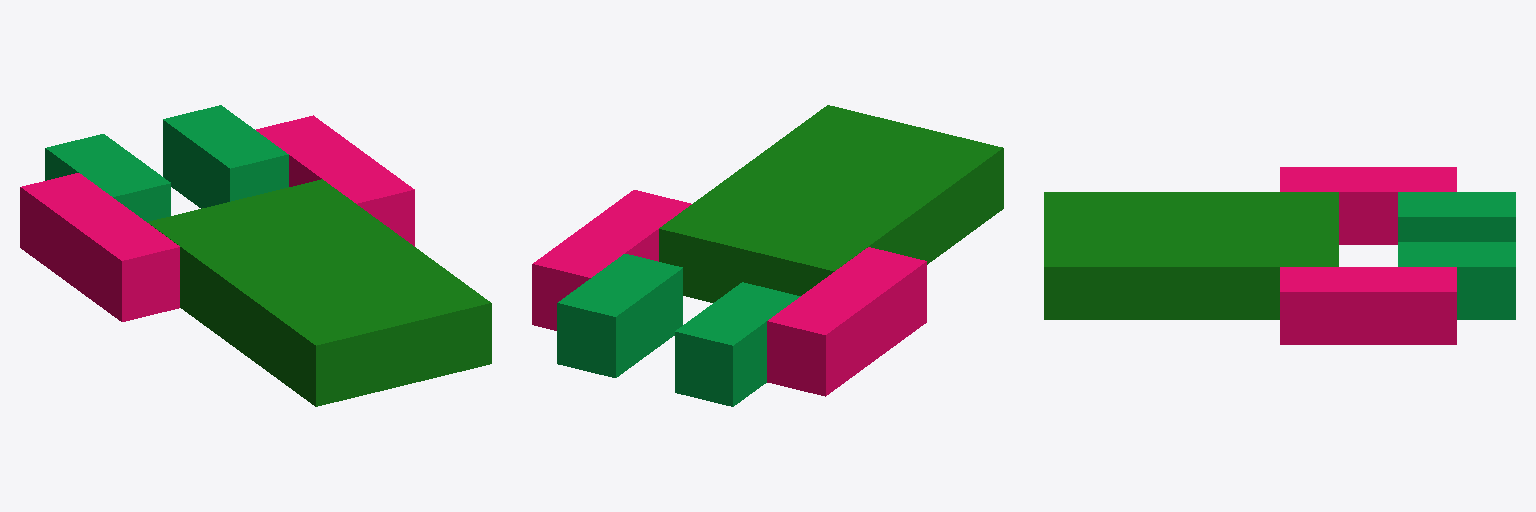
URDF robot description (robot):
<robot name="robot">
  <link name="base_footprint"></link>
  <joint name="base_joint" type="fixed">
    <parent link="base_footprint" />
    <child link="base_link" />
    <origin xyz="0 -1.5 0.5" rpy="0 0 0" />
  </joint>
  <link name="base_link">
    <visual>
      <origin xyz="0 0 0" rpy="0 0 0" />
      <geometry>
        <box size="3 5 1" />
      </geometry>
      <material name="base_link-material">
        <color rgba="0.13286832154414627 0.5583403896257968 0.13013647668074665 1" />
      </material>
    </visual>
    <collision>
      <origin xyz="0 0 0" rpy="0 0 0" />
      <geometry>
        <box size="1 1 1" />
      </geometry>
    </collision>
    <inertial>
      <origin xyz="0 0 0" rpy="0 0 0" />
      <mass value="1" />
      <inertia ixx="0.16666666666666666" ixy="0" ixz="0" iyy="0.16666666666666666" iyz="0" izz="0.16666666666666666" />
    </inertial>
  </link>
  <joint name="base_link_to_cube3" type="continuous">
    <parent link="base_link" />
    <child link="cube3" />
    <origin xyz="2 2 0" rpy="0 0 0" />
    <axis xyz="0.9999773827714318 0 -0.006725618603338868"/>
  </joint>
  <link name="cube3">
    <visual>
      <origin xyz="0 1 0" rpy="0 0 0" />
      <geometry>
        <box size="1 3 1" />
      </geometry>
      <material name="cube3-material">
        <color rgba="0.9911020971136257 0.08228270712149792 0.4910208498384856 1" />
      </material>
    </visual>
    <collision>
      <origin xyz="0 1 0" rpy="0 0 0" />
      <geometry>
        <box size="1 1 1" />
      </geometry>
    </collision>
    <inertial>
      <origin xyz="0 1 0" rpy="0 0 0" />
      <mass value="1" />
      <inertia ixx="0.16666666666666666" ixy="0" ixz="0" iyy="0.16666666666666666" iyz="0" izz="0.16666666666666666" />
    </inertial>
  </link>
  <joint name="cube3_to_cube5" type="continuous">
    <parent link="cube3" />
    <child link="cube5" />
    <origin xyz="-1 2 0" rpy="0 0 0" />
    <axis xyz="0.9999519806835316 0.009007583554104082 -0.003860021450447726"/>
  </joint>
  <link name="cube5">
    <visual>
      <origin xyz="0 0.5 0" rpy="0 0 0" />
      <geometry>
        <box size="1 2 1" />
      </geometry>
      <material name="cube5-material">
        <color rgba="0.06301001764564068 0.6724431569510133 0.3277780980458375 1" />
      </material>
    </visual>
    <collision>
      <origin xyz="0 0.5 0" rpy="0 0 0" />
      <geometry>
        <box size="1 1 1" />
      </geometry>
    </collision>
    <inertial>
      <origin xyz="0 0.5 0" rpy="0 0 0" />
      <mass value="1" />
      <inertia ixx="0.16666666666666666" ixy="0" ixz="0" iyy="0.16666666666666666" iyz="0" izz="0.16666666666666666" />
    </inertial>
  </link>
  <joint name="base_link_to_cube4" type="continuous">
    <parent link="base_link" />
    <child link="cube4" />
    <origin xyz="-2.004144770326496 2 0" rpy="0 0 0" />
    <axis xyz="0.9999773827714319 8.23650729484987e-19 -0.006725618603326657"/>
  </joint>
  <link name="cube4">
    <visual>
      <origin xyz="0 1 0" rpy="0 0 0" />
      <geometry>
        <box size="1 3 1" />
      </geometry>
      <material name="cube4-material">
        <color rgba="0.9911020971136257 0.08228270712149792 0.4910208498384856 1" />
      </material>
    </visual>
    <collision>
      <origin xyz="0 1 0" rpy="0 0 0" />
      <geometry>
        <box size="1 1 1" />
      </geometry>
    </collision>
    <inertial>
      <origin xyz="0 1 0" rpy="0 0 0" />
      <mass value="1" />
      <inertia ixx="0.16666666666666666" ixy="0" ixz="0" iyy="0.16666666666666666" iyz="0" izz="0.16666666666666666" />
    </inertial>
  </link>
  <joint name="cube4_to_cube6" type="continuous">
    <parent link="cube4" />
    <child link="cube6" />
    <origin xyz="1 2 0" rpy="0 0 0" />
    <axis xyz="0.9999519806835317 0.009007583554098919 -0.0038600214504456165"/>
  </joint>
  <link name="cube6">
    <visual>
      <origin xyz="0 0.5 0" rpy="0 0 0" />
      <geometry>
        <box size="1 2 1" />
      </geometry>
      <material name="cube6-material">
        <color rgba="0.06301001764564068 0.6724431569510133 0.3277780980458375 1" />
      </material>
    </visual>
    <collision>
      <origin xyz="0 0.5 0" rpy="0 0 0" />
      <geometry>
        <box size="1 1 1" />
      </geometry>
    </collision>
    <inertial>
      <origin xyz="0 0.5 0" rpy="0 0 0" />
      <mass value="1" />
      <inertia ixx="0.16666666666666666" ixy="0" ixz="0" iyy="0.16666666666666666" iyz="0" izz="0.16666666666666666" />
    </inertial>
  </link>
</robot>

--- Facts derived from the render (not from the file) ---
Views: 3 orthographic renders of the robot side by side, from view 1: azimuth 30°, elevation 25°; view 2: azimuth 150°, elevation 25°; view 3: azimuth 270°, elevation 25°.
Robot: robot — 6 links, 5 joints (4 continuous, 1 fixed); root link base_footprint; default pose: every joint at zero.
Links seen in each view (by area): view 1: base_link, cube4, cube5, cube3, cube6; view 2: base_link, cube4, cube5, cube6, cube3; view 3: base_link, cube3, cube4, cube5, cube6.
Boxes of the visible links, x1,y1,x2,y2 form: base_link: [147, 179, 491, 406]; cube4: [20, 173, 179, 321]; cube5: [163, 105, 288, 208]; cube3: [256, 115, 414, 246]; cube6: [45, 134, 170, 221]; base_link: [659, 105, 1003, 302]; cube4: [767, 247, 926, 396]; cube5: [557, 254, 682, 377]; cube6: [675, 282, 800, 406]; cube3: [532, 190, 691, 330]; base_link: [1044, 192, 1338, 319]; cube3: [1280, 267, 1456, 344]; cube4: [1280, 167, 1456, 244]; cube5: [1398, 242, 1515, 319]; cube6: [1398, 192, 1515, 241].
Size in the robot's own frame: 5 by 8 by 1 metres.
Geometry: primitives only (box / cylinder / sphere), no mesh files.
